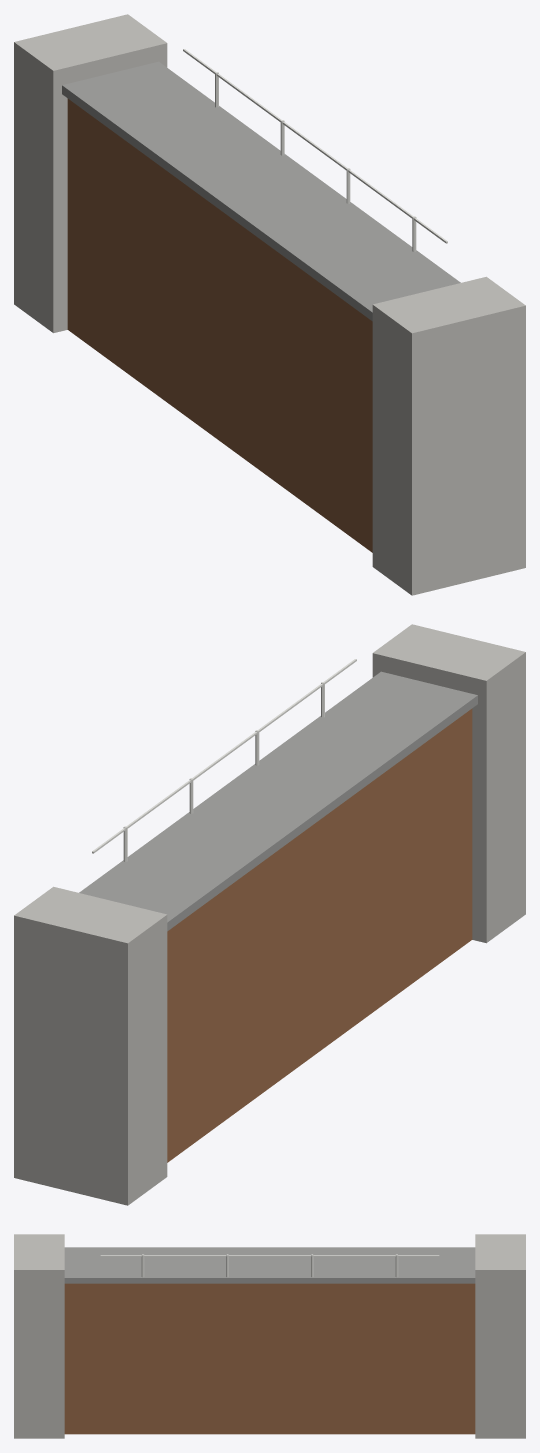
File: DockGate.glb
3 views of the same model, one above another, from view 1: azimuth 30°, elevation 25°; view 2: azimuth 150°, elevation 25°; view 3: azimuth 270°, elevation 25° (orthographic). The views are drawn at different scales.
Visible parts, largest first — view 1: Caisson, Gate pier, Caisson deck, Gate pier.001, Handrail; view 2: Caisson, Gate pier.001, Caisson deck, Gate pier, Handrail; view 3: Caisson, Caisson deck, Gate pier, Gate pier.001, Handrail.
Boxes of the visible parts, x1,y1,x2,y2 form: Caisson: [67, 98, 372, 552]; Gate pier: [372, 276, 525, 595]; Caisson deck: [62, 61, 460, 321]; Gate pier.001: [14, 14, 167, 333]; Handrail: [183, 49, 447, 243]; Caisson: [167, 708, 472, 1162]; Gate pier.001: [14, 886, 167, 1205]; Caisson deck: [79, 671, 477, 931]; Gate pier: [372, 624, 525, 943]; Handrail: [92, 659, 356, 853]; Caisson: [64, 1283, 475, 1434]; Caisson deck: [64, 1247, 475, 1283]; Gate pier: [14, 1234, 64, 1438]; Gate pier.001: [475, 1234, 525, 1438]; Handrail: [100, 1255, 439, 1256].
Size of the model in its own units: 4 by 9.4 by 24.2.
